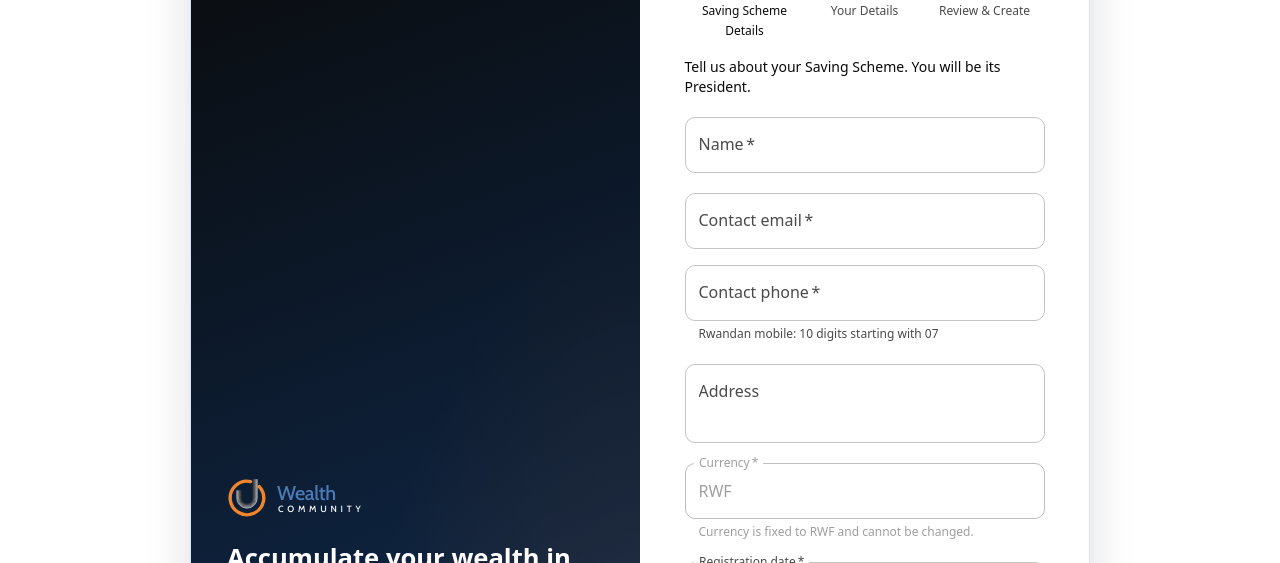
Test: SignupPage onboarding wizard › requires an operating model before leaving step 1
The image size is (1280, 563).
Type "Public Scheme" into the field labelled "Name *" at (864, 145), box x1=684 y1=117 x2=1044 y2=173
Type "scheme@example.com" into the field labelled "Contact email *" at (864, 221), box x1=684 y1=193 x2=1044 y2=249
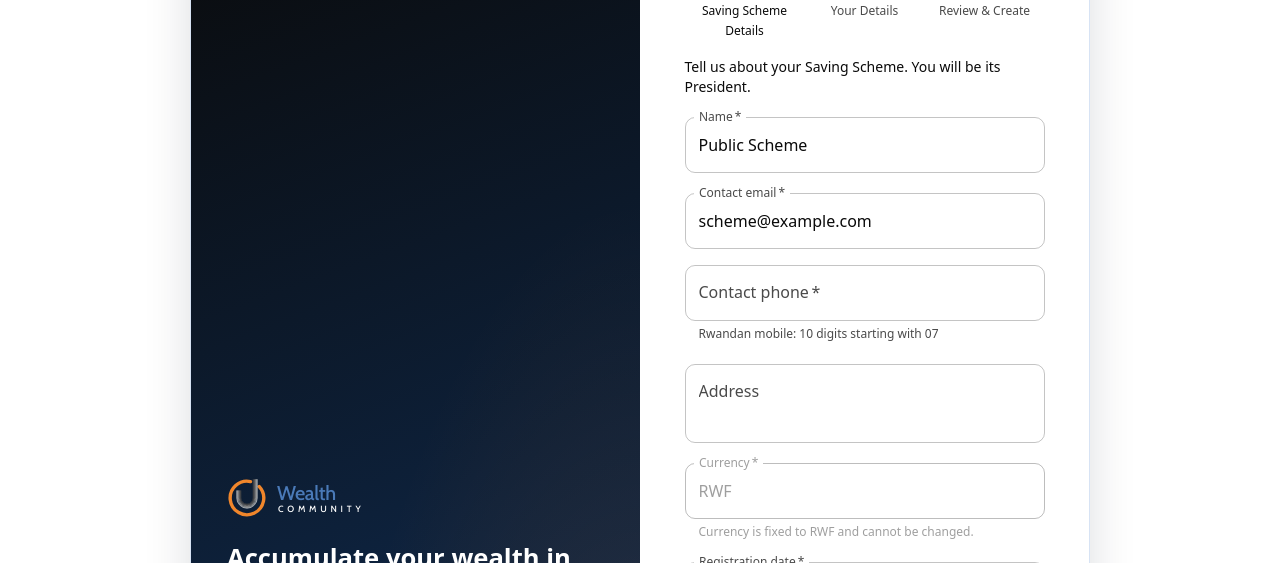
Type "0781234567" into the field labelled "Contact phone *" at (864, 293), box x1=684 y1=265 x2=1044 y2=321
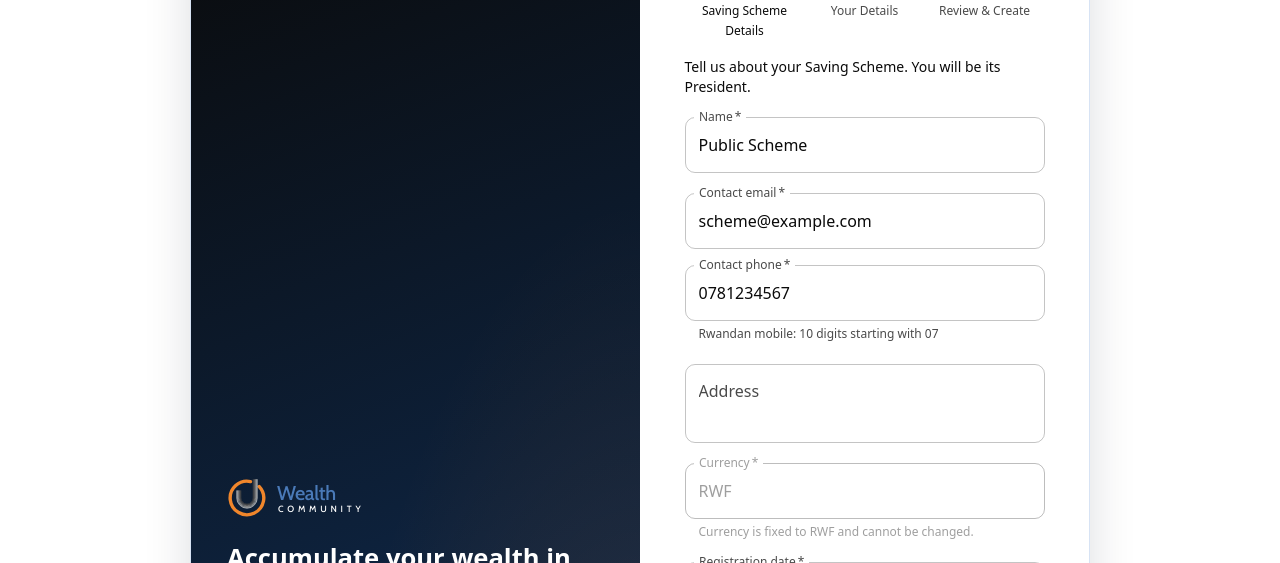
Type "Kigali" into the text box labelled "Address" at (864, 404), box x1=698 y1=381 x2=1030 y2=427
(page scrolled)
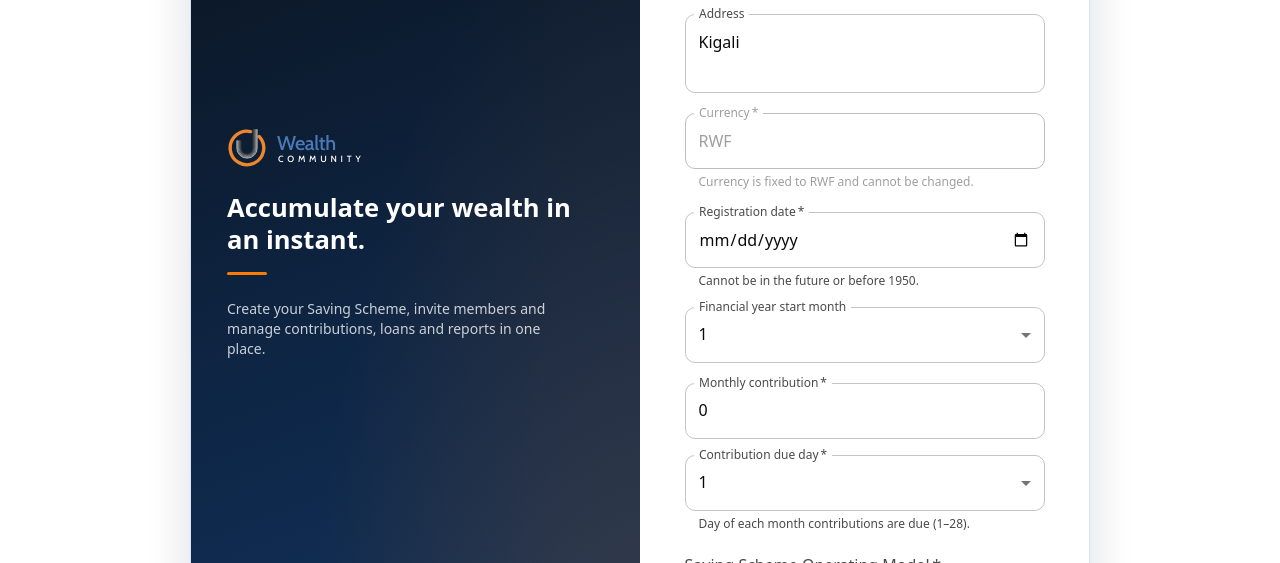
Type "2024-01-15" into the date field labelled "Registration date *" at (864, 240), box x1=684 y1=212 x2=1044 y2=268
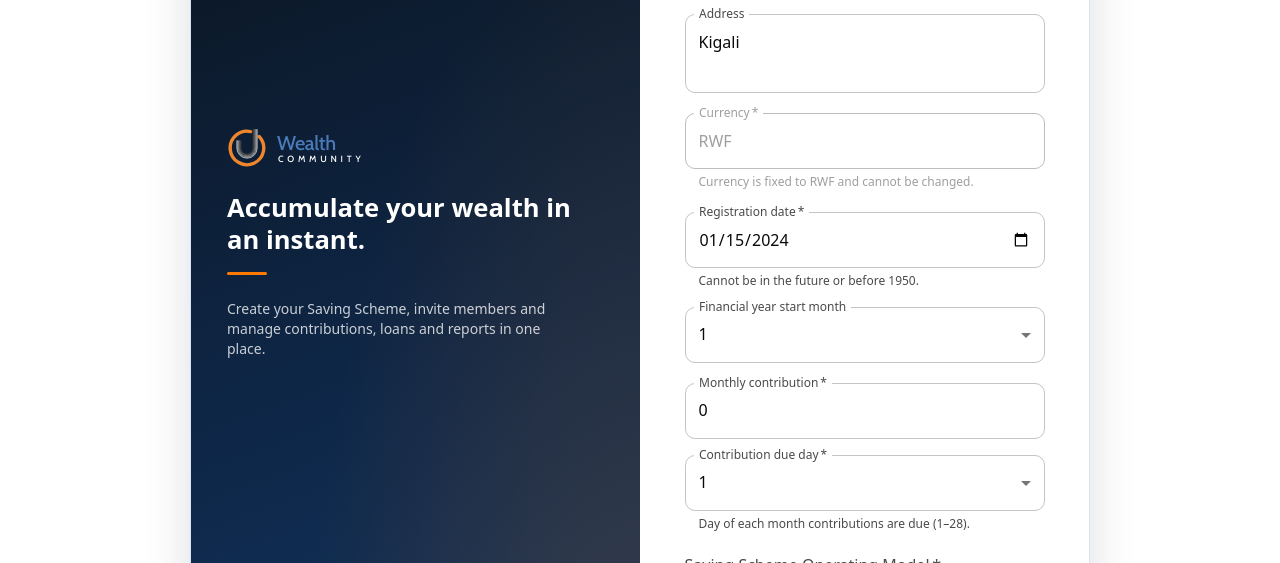
Replace the text in the field labelled "Monthly contribution *" with "5000" at (864, 411), box x1=684 y1=383 x2=1044 y2=439
(page scrolled)
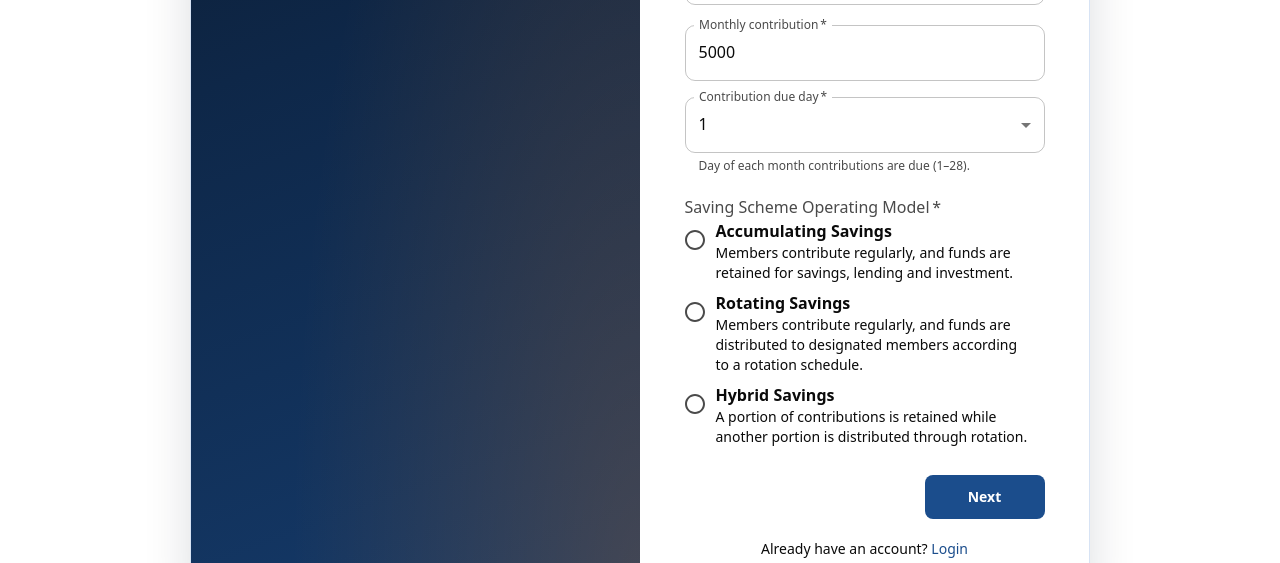
Click the button "Next" at (984, 497), box x1=924 y1=475 x2=1044 y2=519
(page scrolled)
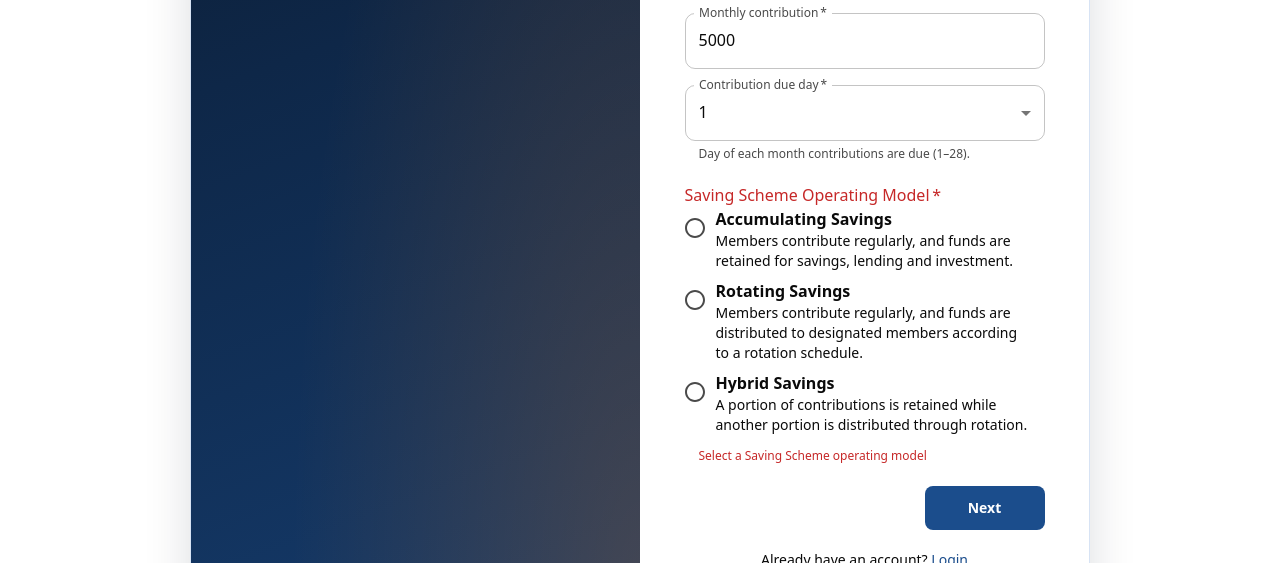
expect the text "Select a Saving Scheme operating model" is shown: met, box x1=698 y1=447 x2=927 y2=464
